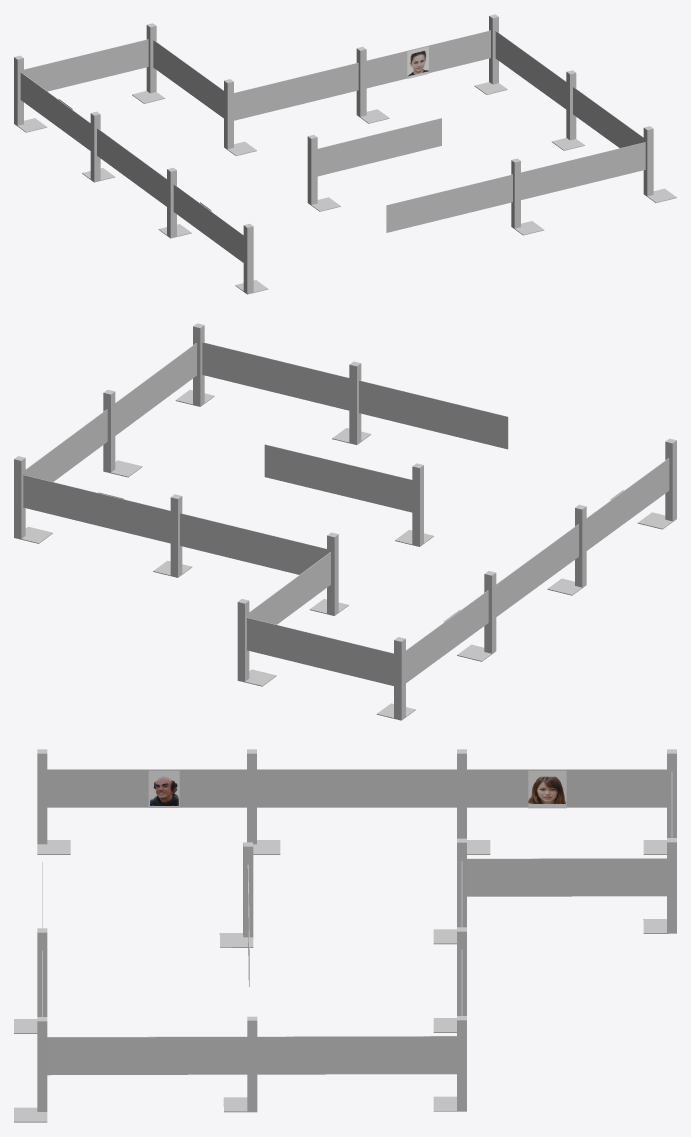
Rendered from rins_world_task1.dae.
3 views of the same model, one above another, from view 1: azimuth 30°, elevation 25°; view 2: azimuth 150°, elevation 25°; view 3: azimuth 270°, elevation 25° (orthographic). The views are drawn at different scales.
Parts seen in each view (by area): view 1: SketchUp (×3); view 2: SketchUp (×2); view 3: SketchUp (×4).
Boxes of the visible parts, left/top/right/bottom form: SketchUp (×3): left=14, top=14, right=676, bottom=294; SketchUp (×2): left=14, top=323, right=676, bottom=720; SketchUp (×4): left=14, top=749, right=676, bottom=1122.
Size of the model in its own units: 158 by 157 by 23.86.
Materials: 4 (3 with a texture image).
